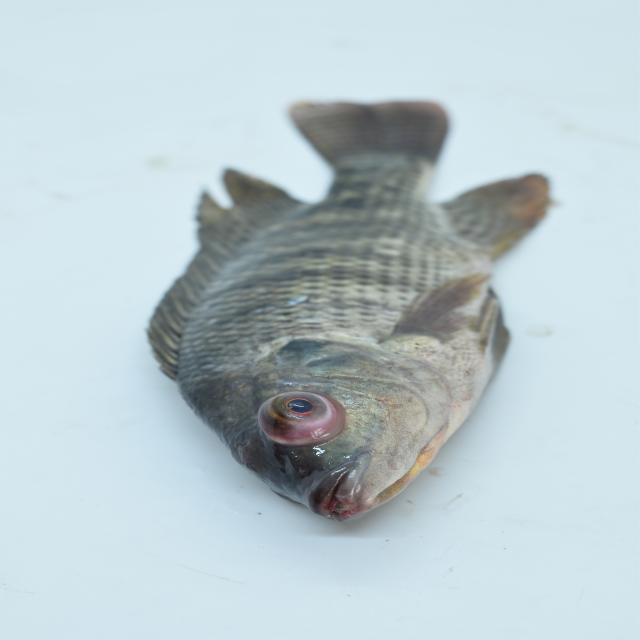Columnaris Disease: (133, 48, 564, 533)
